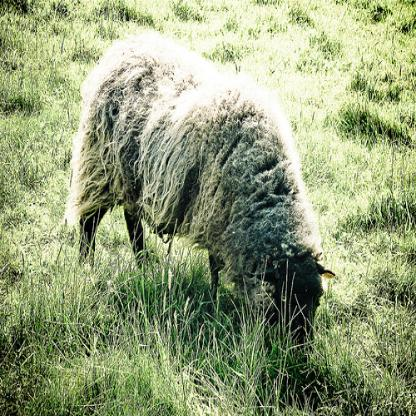sheep: (64, 24, 336, 355)
